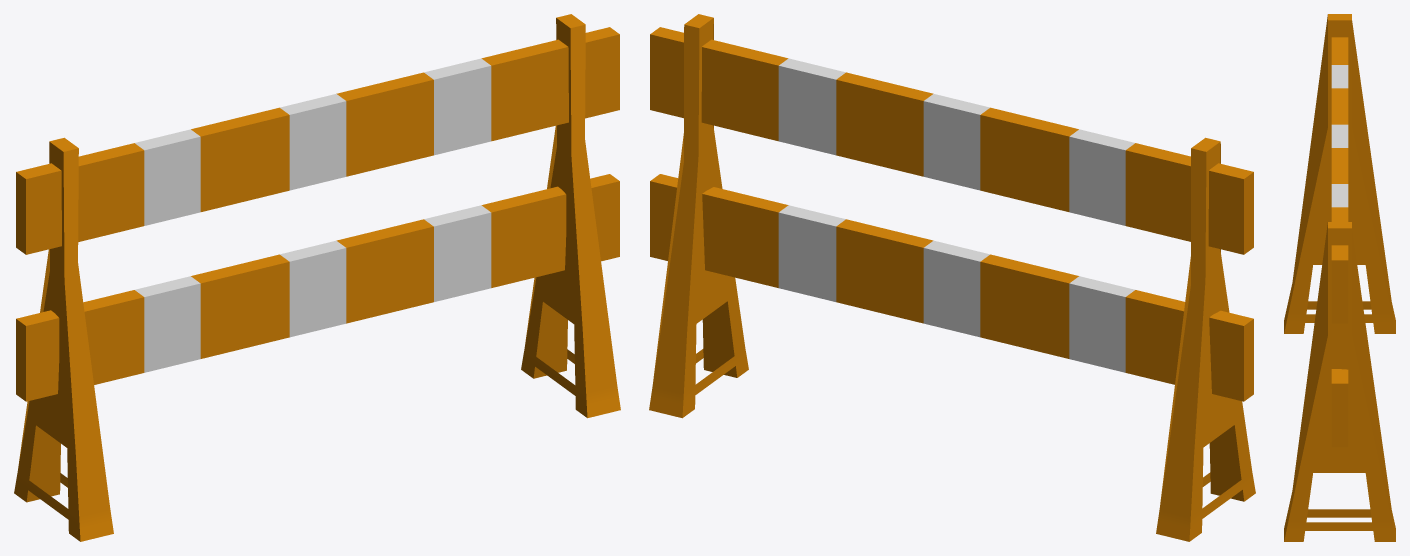
The model's file is Cavalete.fbx.
The picture shows the model from 3 angles, left to right: view 1: azimuth 30°, elevation 25°; view 2: azimuth 150°, elevation 25°; view 3: azimuth 270°, elevation 25°; orthographic projection. The views are drawn at different scales.
Visible parts, largest first — view 1: cavalete1; view 2: cavalete1; view 3: cavalete1.
Boxes of the visible parts, <box> form: cavalete1: <box>14,14,620,541</box>; cavalete1: <box>649,14,1255,541</box>; cavalete1: <box>1284,14,1395,541</box>.
Size of the model in its own units: 18.54 by 11 by 3.6.
